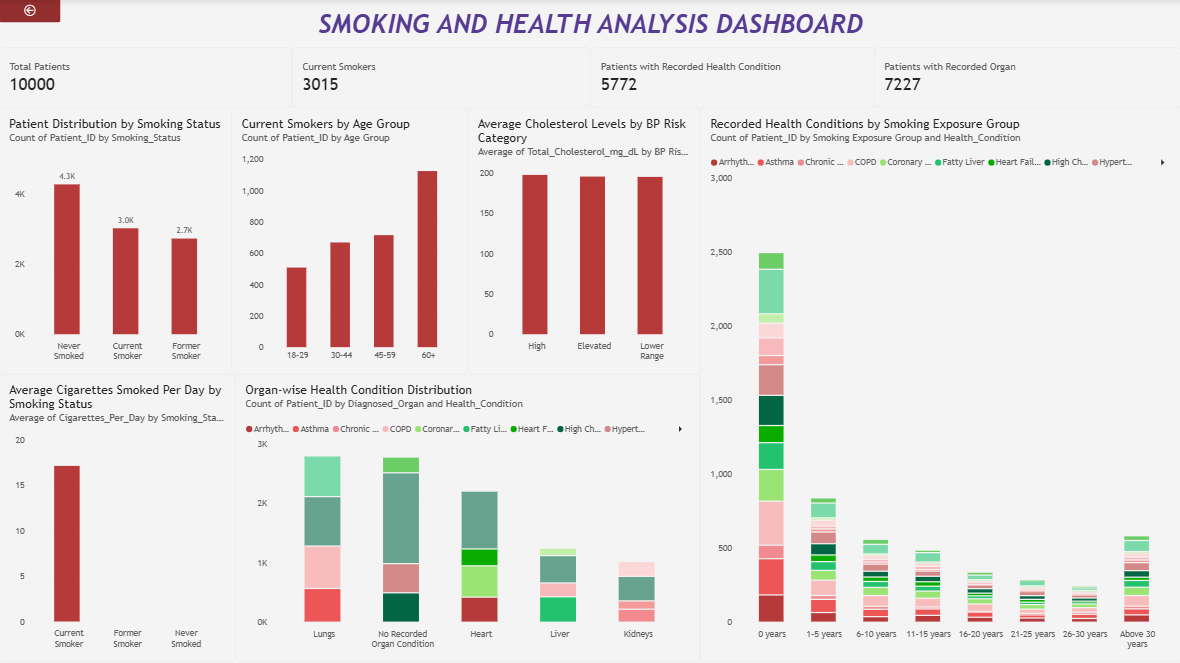

This screenshot's page, from the dashboard's own definition file:
{"tool":"powerbi","page":{"name":"Page 1","canvas":[1920,1080],"ordinal":0},"visuals":[{"type":"cardVisual","fields":{"Data":["Smoking_Health_Analysis.Total Patients"]},"box":[0,79.7,475.2,98.1],"z":0},{"type":"cardVisual","fields":{"Data":["Smoking_Health_Analysis.Current Smokers"]},"box":[475.2,79.7,484.4,98.1],"z":1000},{"type":"cardVisual","fields":{"Data":["Smoking_Health_Analysis.Patients with Recorded Health Condition"]},"box":[959.6,79.7,462.9,98.1],"z":2000},{"type":"cardVisual","fields":{"Data":["Smoking_Health_Analysis.Patients with Recorded Organ"]},"box":[1419.4,79.7,499.7,98.1],"z":3000},{"type":"clusteredColumnChart","title":"Patient Distribution by Smoking Status","fields":{"Category":["Smoking_Health_Analysis.Smoking_Status"],"Y":["CountNonNull(Smoking_Health_Analysis.Patient_ID)"]},"box":[0,177.8,383.2,432.3],"z":4000},{"type":"clusteredColumnChart","title":"Average Cigarettes Smoked Per Day by Smoking Status","fields":{"Category":["Smoking_Health_Analysis.Smoking_Status"],"Y":["Avg(Smoking_Health_Analysis.Cigarettes_Per_Day)"]},"box":[0,610.1,383.2,466],"z":7000},{"type":"lineStackedColumnComboChart","title":"Organ-wise Health Condition Distribution","fields":{"Category":["Smoking_Health_Analysis.Diagnosed_Organ"],"Series":["Smoking_Health_Analysis.Health_Condition"],"Y":["CountNonNull(Smoking_Health_Analysis.Patient_ID)"]},"box":[383.2,610.1,754.2,466],"z":12000},{"type":"clusteredColumnChart","title":"Average Cholesterol Levels by BP Risk Category","fields":{"Category":["Smoking_Health_Analysis.BP Risk Category"],"Y":["Avg(Smoking_Health_Analysis.Total_Cholesterol_mg_dL)"]},"box":[760.3,177.8,377.1,432.3],"z":13000},{"type":"clusteredColumnChart","title":"Current Smokers by Age Group","fields":{"Category":["Smoking_Health_Analysis.Age Group"],"Y":["CountNonNull(Smoking_Health_Analysis.Patient_ID)"]},"box":[377.1,177.8,383.2,432.3],"z":14000},{"type":"actionButton","box":[0,0,100,40],"z":15000},{"type":"lineStackedColumnComboChart","title":"Recorded Health Conditions by Smoking Exposure Group","fields":{"Category":["Smoking_Health_Analysis.Smoking Exposure Group"],"Series":["Smoking_Health_Analysis.Health_Condition"],"Y":["CountNonNull(Smoking_Health_Analysis.Patient_ID)"]},"box":[1137.4,177.8,781.8,898.3],"z":16000},{"type":"textbox","box":[0,0,1919.1,79.7],"z":16001}]}

Visuals, with their boxes in screenshot pixels (x1, y1, x2, y2), scaled from the page's 1920x1080 canvas onto the 1180x663 screenshot:
cardVisual - Smoking_Health_Analysis.Total Patients: region(0, 49, 292, 109)
cardVisual - Smoking_Health_Analysis.Current Smokers: region(292, 49, 590, 109)
cardVisual - Smoking_Health_Analysis.Patients with Recorded Health Condition: region(590, 49, 874, 109)
cardVisual - Smoking_Health_Analysis.Patients with Recorded Organ: region(872, 49, 1179, 109)
"Patient Distribution by Smoking Status" clusteredColumnChart: region(0, 109, 236, 375)
"Average Cigarettes Smoked Per Day by Smoking Status" clusteredColumnChart: region(0, 375, 236, 661)
"Organ-wise Health Condition Distribution" lineStackedColumnComboChart: region(236, 375, 699, 661)
"Average Cholesterol Levels by BP Risk Category" clusteredColumnChart: region(467, 109, 699, 375)
"Current Smokers by Age Group" clusteredColumnChart: region(232, 109, 467, 375)
actionButton: region(0, 0, 61, 25)
"Recorded Health Conditions by Smoking Exposure Group" lineStackedColumnComboChart: region(699, 109, 1179, 661)
textbox: region(0, 0, 1179, 49)
